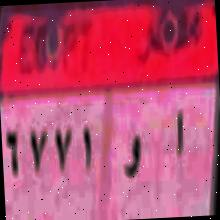1: (78, 116, 98, 188)
6: (3, 122, 24, 191)
7: (50, 116, 76, 189), (26, 120, 50, 188)
alif: (171, 104, 189, 166)
waw: (119, 124, 144, 190)
